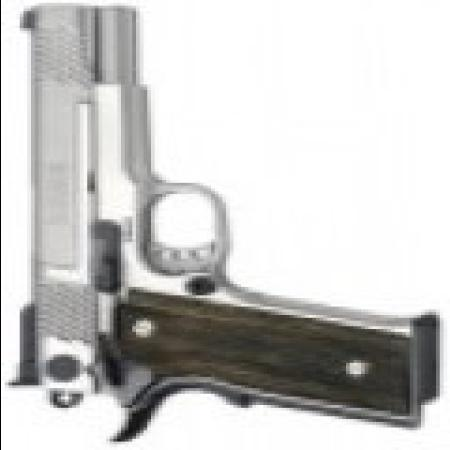Pistol: (11, 2, 431, 430)
